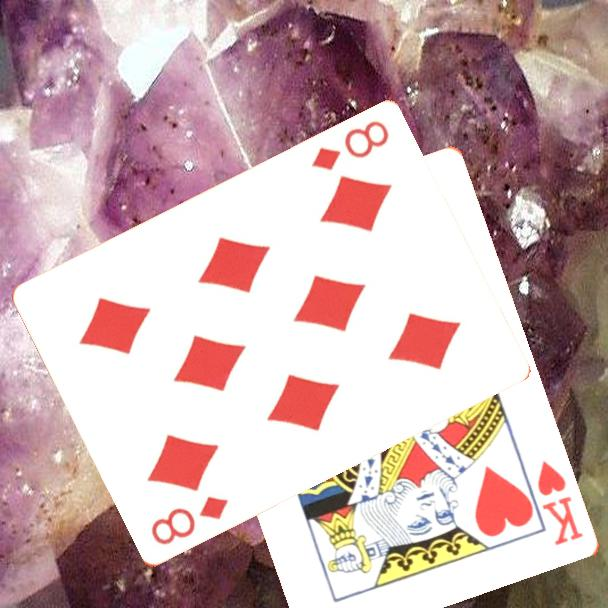d08: (307, 117, 392, 174), (147, 493, 232, 549)
h13: (534, 457, 587, 549)
